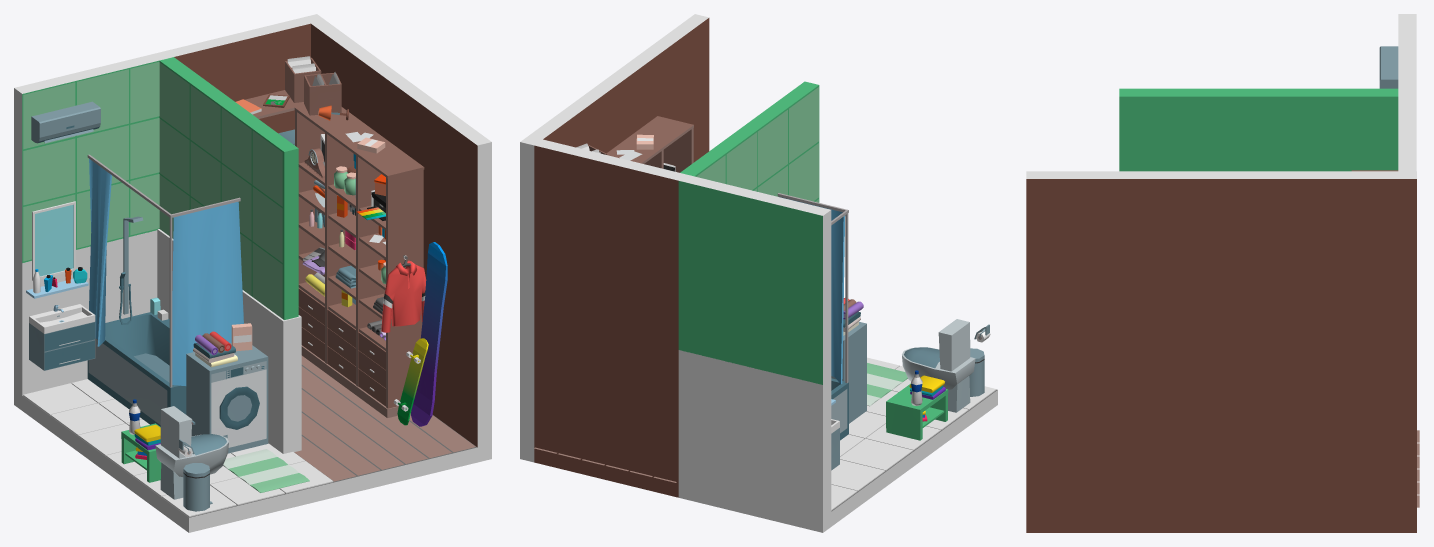
Rendered from room_26.glb.
3 views of the same model, side by side, from view 1: azimuth 30°, elevation 25°; view 2: azimuth 150°, elevation 25°; view 3: azimuth 270°, elevation 25° (orthographic). The views are drawn at different scales.
Parts seen in each view (by area): view 1: Walls_009.005, closet_031.002, Curtains_021.001, Walls_006.061, Walls_046.009, bathroom_item_028.001, Walls_009.006, bathroom_item_032.001, Walls_005.484, Walls_089.001, Walls_080.001, bathroom_item_008.002 (+48 smaller); view 2: Walls_009.006, Walls_080.001, Walls_006.061, Walls_009.005, bathroom_item_033.002, Walls_046.009, closet_031.002, Walls_089.001, Curtains_021.001, shelf_064.001, bathroom_item_032.001, carpet_013.005 (+12 smaller); view 3: Walls_009.005, Walls_089.001, Walls_009.006, Walls_080.001, electronics_036.001.
Part boxes in pixels (left/top/right/bottom): Walls_009.005: left=303, top=14, right=491, bottom=462; closet_031.002: left=294, top=105, right=424, bottom=417; Curtains_021.001: left=172, top=201, right=243, bottom=385; Walls_006.061: left=14, top=230, right=157, bottom=410; Walls_046.009: left=22, top=365, right=477, bottom=532; bathroom_item_028.001: left=87, top=216, right=186, bottom=426; Walls_009.006: left=158, top=17, right=310, bottom=133; bathroom_item_032.001: left=186, top=343, right=268, bottom=453; Walls_005.484: left=157, top=229, right=301, bottom=453; Walls_089.001: left=159, top=57, right=298, bottom=319; Walls_080.001: left=14, top=53, right=166, bottom=262; bathroom_item_008.002: left=29, top=304, right=95, bottom=370; Walls_009.006: left=534, top=139, right=686, bottom=497; Walls_080.001: left=678, top=174, right=831, bottom=384; Walls_006.061: left=678, top=350, right=831, bottom=532; Walls_009.005: left=520, top=14, right=709, bottom=462; bathroom_item_033.002: left=902, top=319, right=975, bottom=412; Walls_046.009: left=831, top=389, right=997, bottom=526; closet_031.002: left=606, top=116, right=693, bottom=172; Walls_089.001: left=680, top=81, right=819, bottom=202; Curtains_021.001: left=779, top=197, right=845, bottom=383; shelf_064.001: left=886, top=383, right=948, bottom=440; bathroom_item_032.001: left=831, top=322, right=866, bottom=423; carpet_013.005: left=757, top=110, right=787, bottom=185; Walls_009.005: left=1026, top=171, right=1416, bottom=532; Walls_089.001: left=1119, top=88, right=1398, bottom=171; Walls_009.006: left=1398, top=92, right=1416, bottom=171; Walls_080.001: left=1398, top=14, right=1416, bottom=92; electronics_036.001: left=1379, top=46, right=1398, bottom=88.
Size of the model in its own units: 4.2 by 4.23 by 4.23.
Materials: 1 (1 with a texture image).
